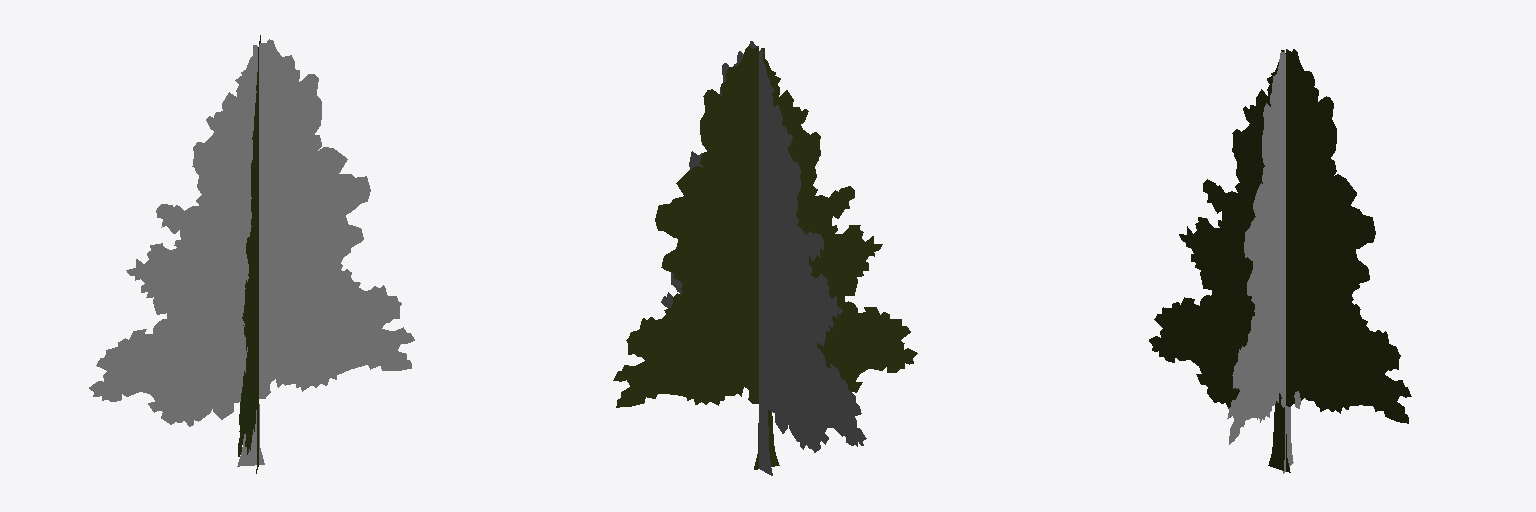
The model's file is masktree3.obj.
The picture shows the model from 3 angles: view 1: azimuth 30°, elevation 25°; view 2: azimuth 150°, elevation 25°; view 3: azimuth 270°, elevation 25°; orthographic projection.
Parts seen in each view (by area): view 1: shadow_Plane.003, tree_Plane.004; view 2: tree_Plane.004, shadow_Plane.003; view 3: tree_Plane.004, shadow_Plane.003.
Part boxes in pixels (bbox=[...]): shadow_Plane.003: bbox=[89, 39, 414, 466]; tree_Plane.004: bbox=[238, 35, 260, 473]; tree_Plane.004: bbox=[613, 46, 917, 469]; shadow_Plane.003: bbox=[661, 41, 866, 475]; tree_Plane.004: bbox=[1149, 49, 1411, 472]; shadow_Plane.003: bbox=[1227, 49, 1305, 473].
Bounding box in the file's own units: 6.95 × 10.6 × 5.96.